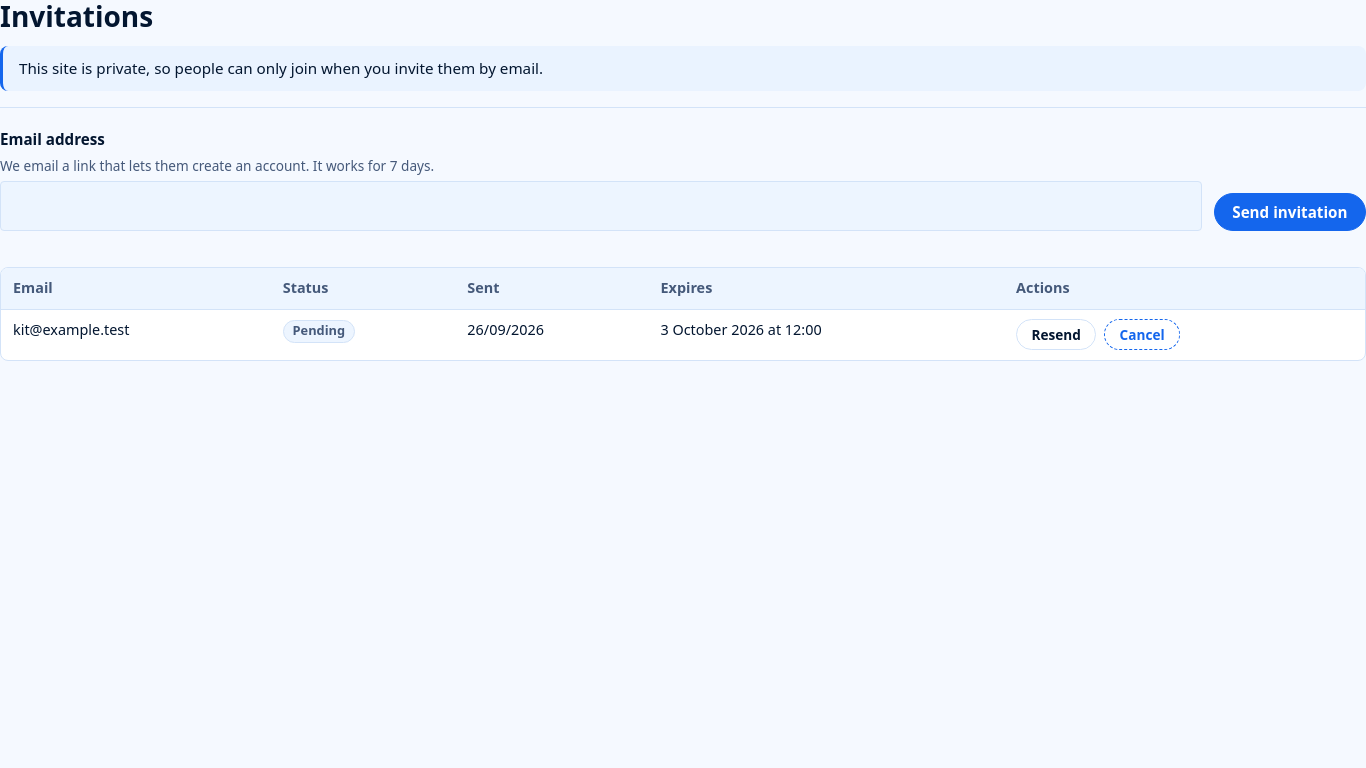
it: AdminInvitationsPage cancelling an invitation › keeps the invitation when the viewer changes their mind
Click the button with aria-label "Cancel invitation to kit@example.test": (1142, 335) [1104,319,1180,350]
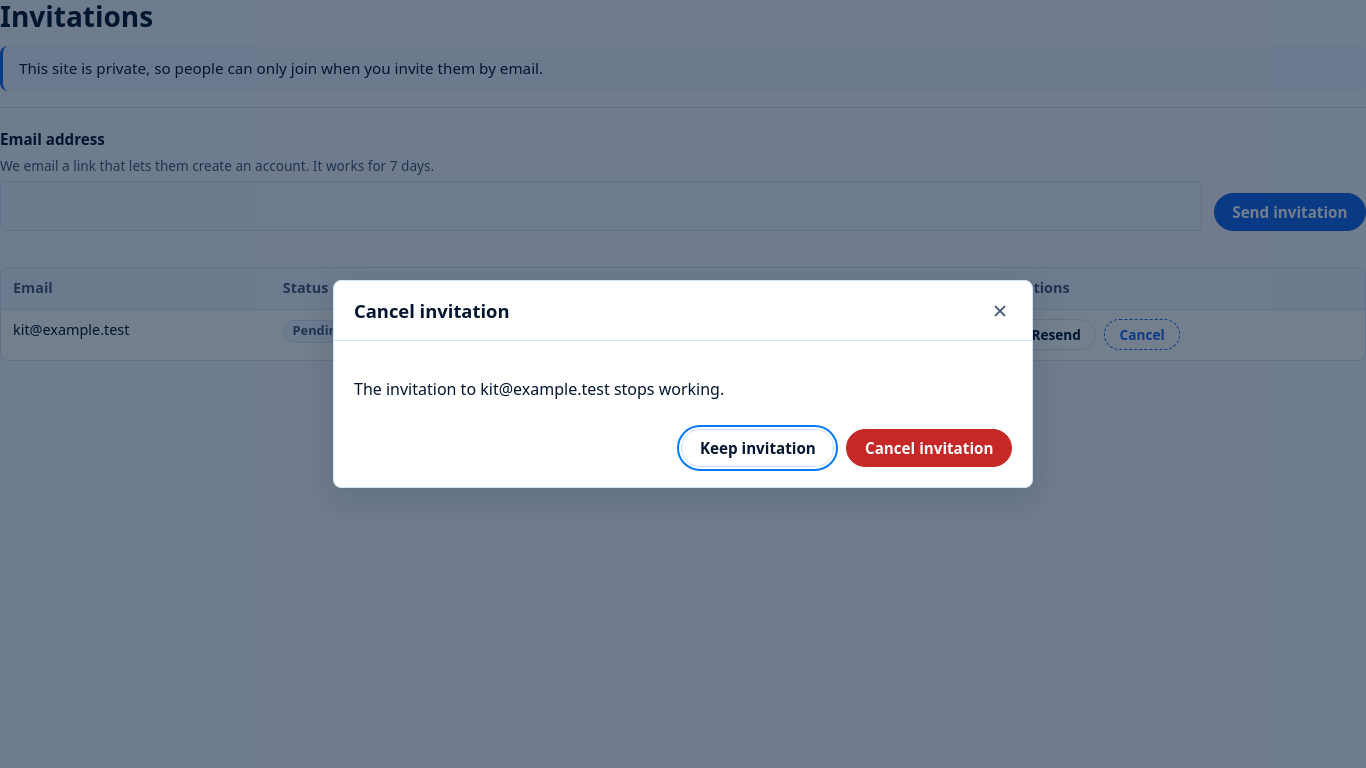
Click the button "Keep invitation": (758, 448) [681,429,834,467]
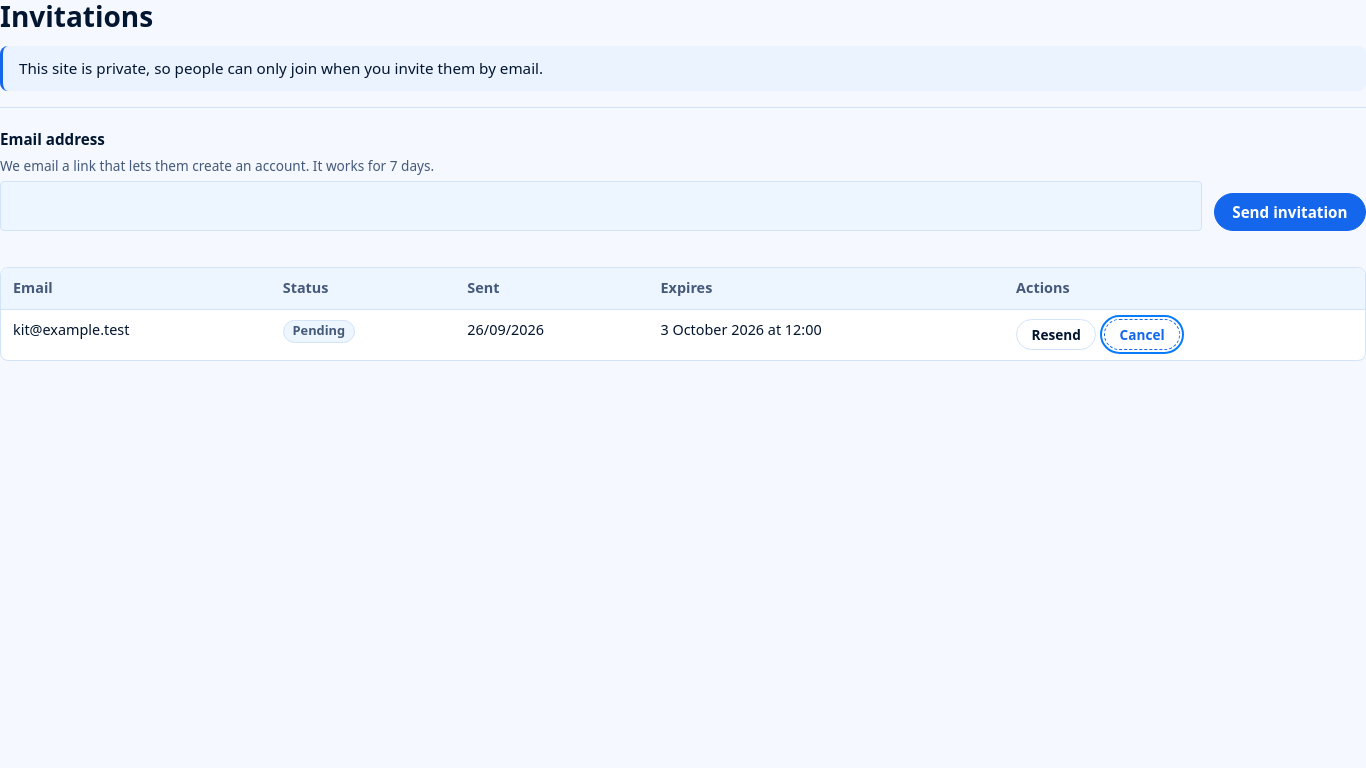
Expected: the dialog is gone
